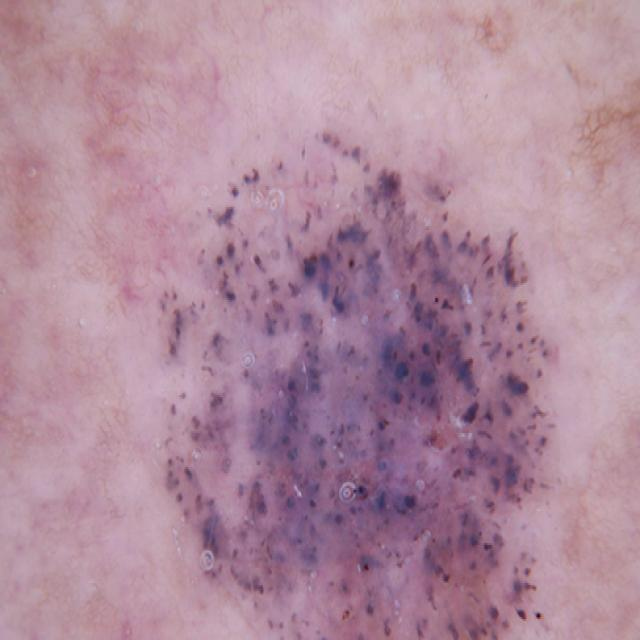Keratosis: (128, 70, 603, 640)
